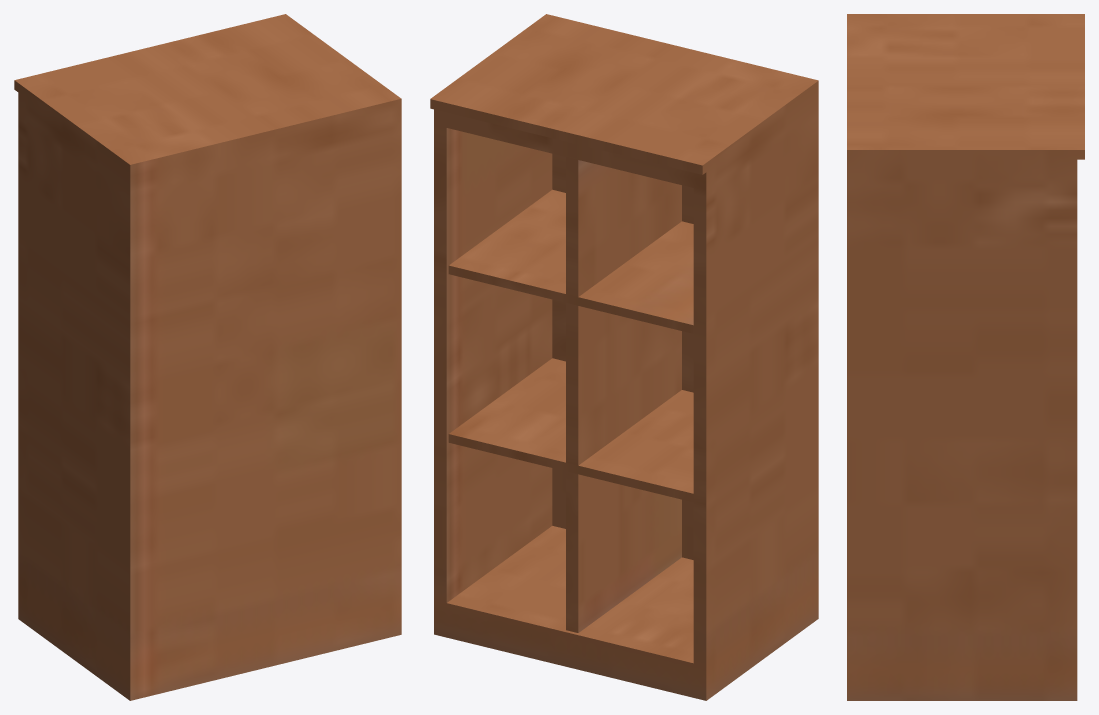
Rendered from Closet36.glb.
3 views of the same model, side by side, from view 1: azimuth 30°, elevation 25°; view 2: azimuth 150°, elevation 25°; view 3: azimuth 270°, elevation 25° (orthographic). The views are drawn at different scales.
Visible parts, largest first — view 1: Closet36_model; view 2: Closet36_model; view 3: Closet36_model.
Boxes of the visible parts, <box> form: Closet36_model: <box>14,14,401,700</box>; Closet36_model: <box>430,14,818,700</box>; Closet36_model: <box>847,14,1084,700</box>.
Size of the model in its own units: 1.37 by 2.58 by 1.01.
Materials: 1 (1 with a texture image).
